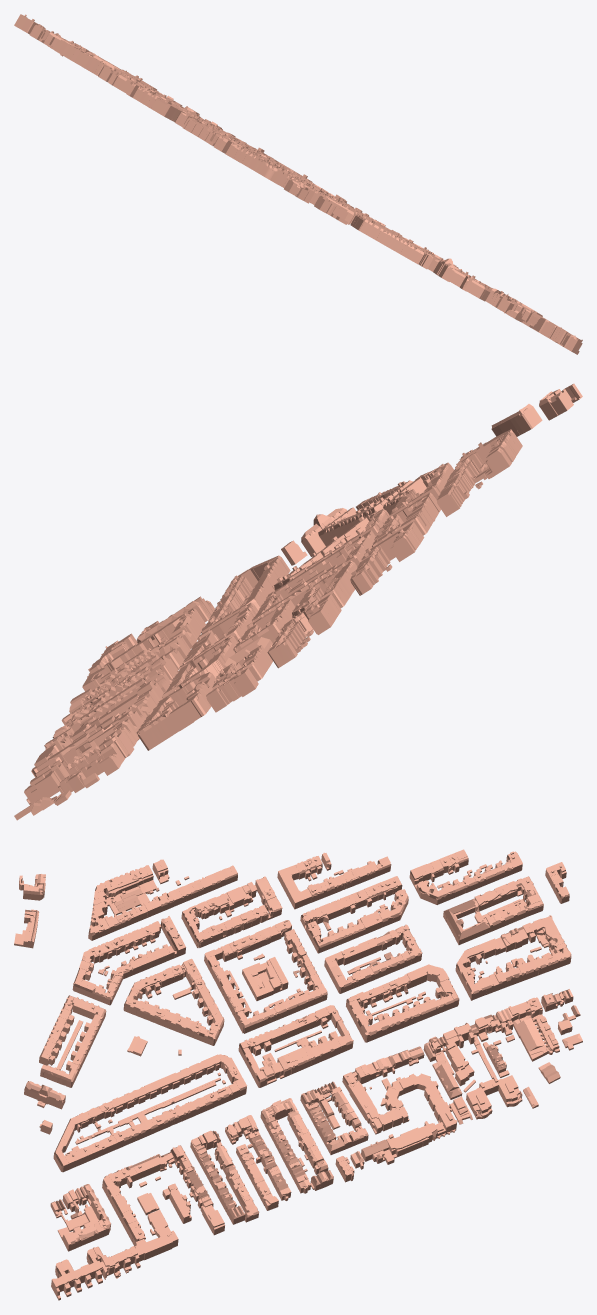
3 views of the same model, one above another, from view 1: azimuth 30°, elevation 25°; view 2: azimuth 150°, elevation 25°; view 3: azimuth 270°, elevation 25° (orthographic). The views are drawn at different scales.
Size of the model in its own units: 1.53e+07 by 1.11e+07 by 2.05e+07.
